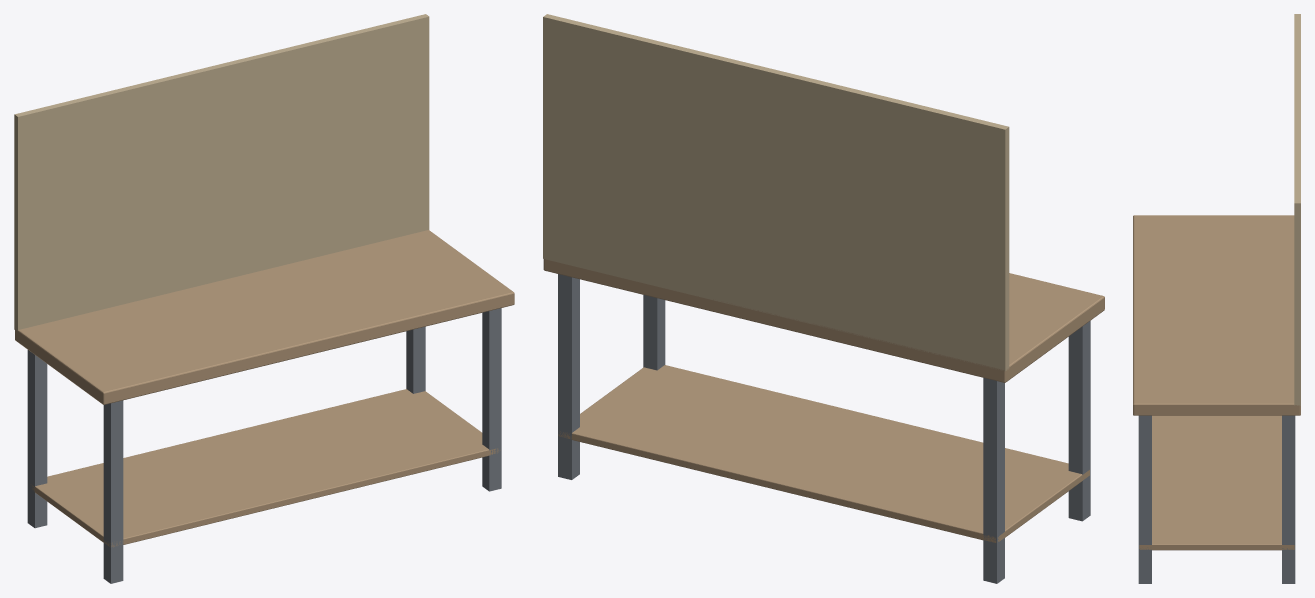
File: workbench.glb
3 views of the same model, side by side, from view 1: azimuth 30°, elevation 25°; view 2: azimuth 150°, elevation 25°; view 3: azimuth 270°, elevation 25° (orthographic). The views are drawn at different scales.
Visible parts, largest first — view 1: workbench; view 2: workbench; view 3: workbench.
Part boxes in pixels (left/top/right/bottom): workbench: left=14, top=14, right=514, bottom=583; workbench: left=543, top=14, right=1104, bottom=583; workbench: left=1133, top=14, right=1300, bottom=583.
Bounding box in the file's own units: 2 × 1.9 × 0.75.
